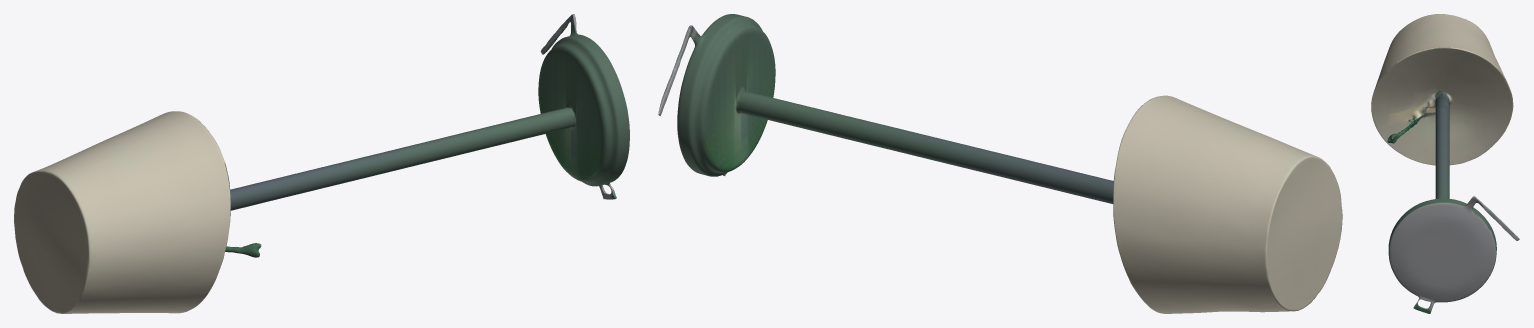
The model's file is lámpara+3d+modelo.fbx.
3 views of the same model, side by side, from view 1: azimuth 30°, elevation 25°; view 2: azimuth 150°, elevation 25°; view 3: azimuth 270°, elevation 25° (orthographic). The views are drawn at different scales.
Visible parts, largest first — view 1: tripo_node_1928f010; view 2: tripo_node_1928f010; view 3: tripo_node_1928f010.
Boxes of the visible parts, left/top/right/bottom form: tripo_node_1928f010: left=14, top=14, right=629, bottom=313; tripo_node_1928f010: left=658, top=14, right=1342, bottom=313; tripo_node_1928f010: left=1371, top=14, right=1519, bottom=313.
Size of the model in its own units: 0.9999 by 0.3135 by 0.3225.
Materials: 1 (1 with a texture image).
